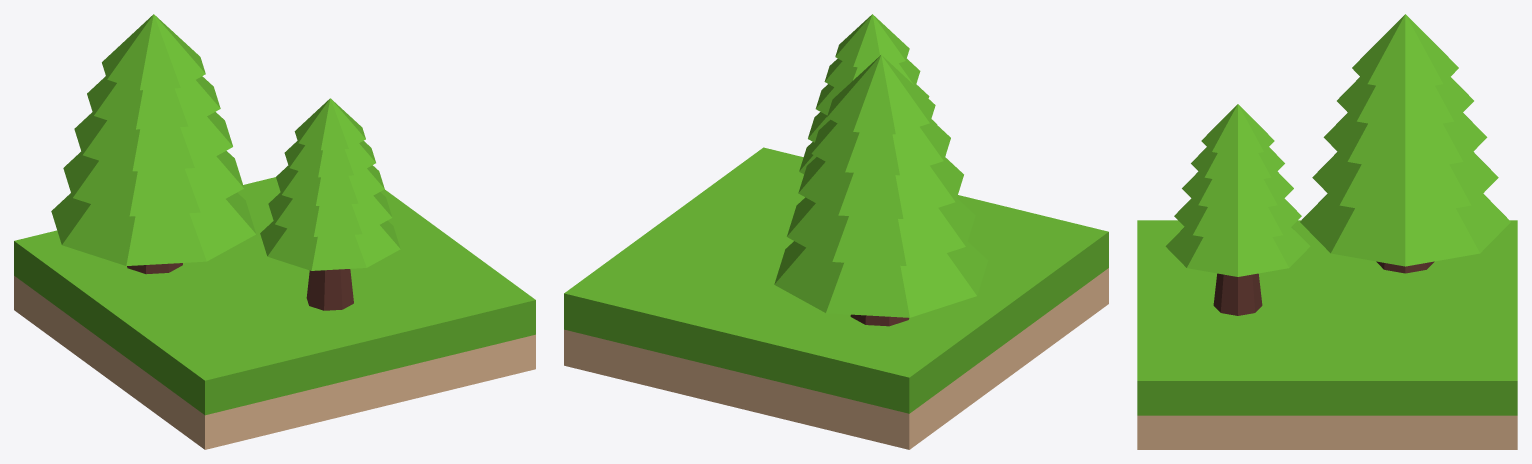
The model's file is TreeTile2.fbx.
3 renders of one model, left to right at view 1: azimuth 30°, elevation 25°; view 2: azimuth 150°, elevation 25°; view 3: azimuth 270°, elevation 25°, orthographic. The views are drawn at different scales.
Parts seen in each view (by area): view 1: Cube, Cylinder, Cylinder.001; view 2: Cube, Cylinder, Cylinder.001; view 3: Cube, Cylinder, Cylinder.001.
Boxes of the visible parts, x1,y1,x2,y2 form: Cube: (14, 177, 535, 449); Cylinder: (51, 14, 255, 274); Cylinder.001: (260, 98, 400, 310); Cube: (564, 147, 1108, 449); Cylinder: (774, 55, 988, 326); Cylinder.001: (799, 14, 937, 174); Cube: (1137, 220, 1517, 449); Cylinder: (1300, 14, 1510, 273); Cylinder.001: (1165, 104, 1310, 315).
Size of the model in its own units: 103 by 91.56 by 100.
